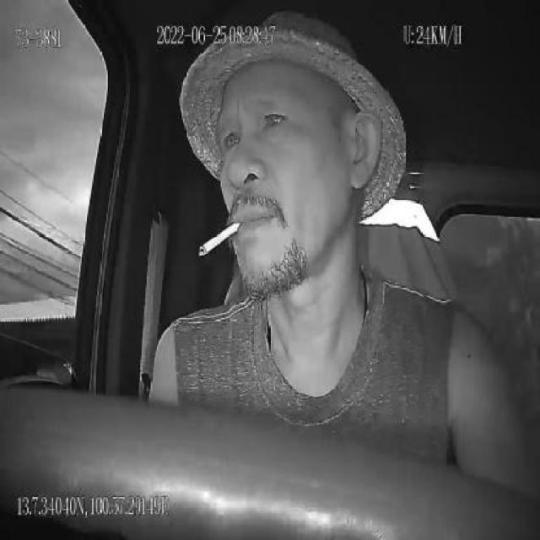smoking: (197, 216, 243, 258)
